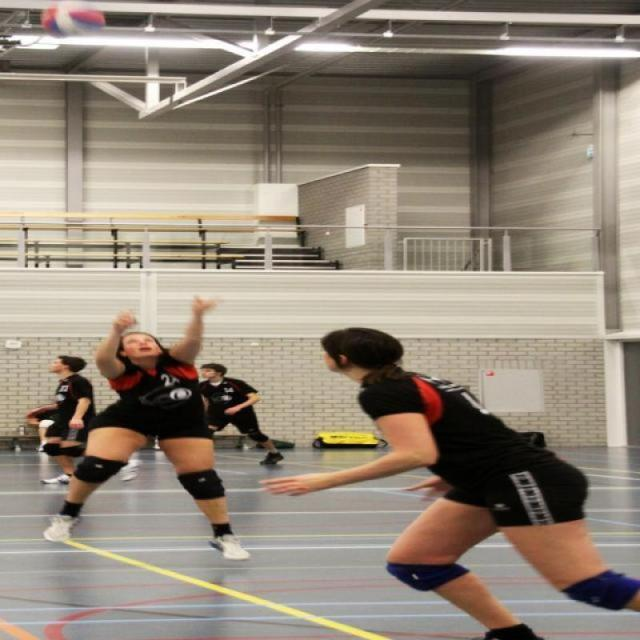volleyball: (37, 3, 105, 38)
